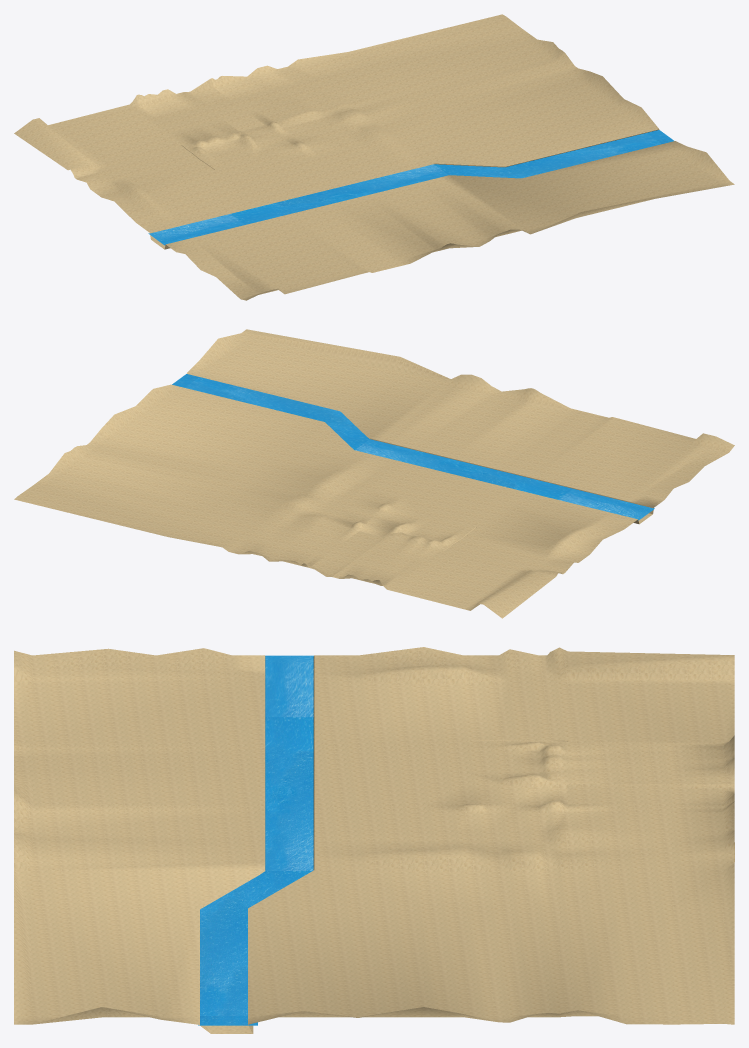
File: Karbalaa.FBX
3 views of the same model, one above another, from view 1: azimuth 30°, elevation 25°; view 2: azimuth 150°, elevation 25°; view 3: azimuth 270°, elevation 25° (orthographic). The views are drawn at different scales.
Visible parts, largest first — view 1: Plane001, Sea; view 2: Plane001, Sea; view 3: Plane001, Sea.
Part boxes in pixels (bbox=[...]): Plane001: bbox=[14, 14, 734, 300]; Sea: bbox=[148, 130, 673, 245]; Plane001: bbox=[14, 329, 734, 618]; Sea: bbox=[172, 374, 654, 520]; Plane001: bbox=[14, 647, 734, 1033]; Sea: bbox=[198, 655, 313, 1025].
Size of the model in its own units: 1007 by 34.25 by 829.
